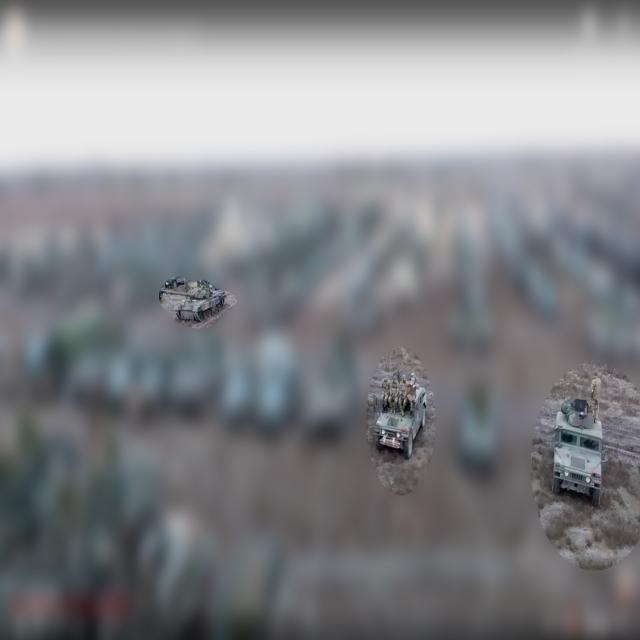tank: (159, 278, 227, 323)
